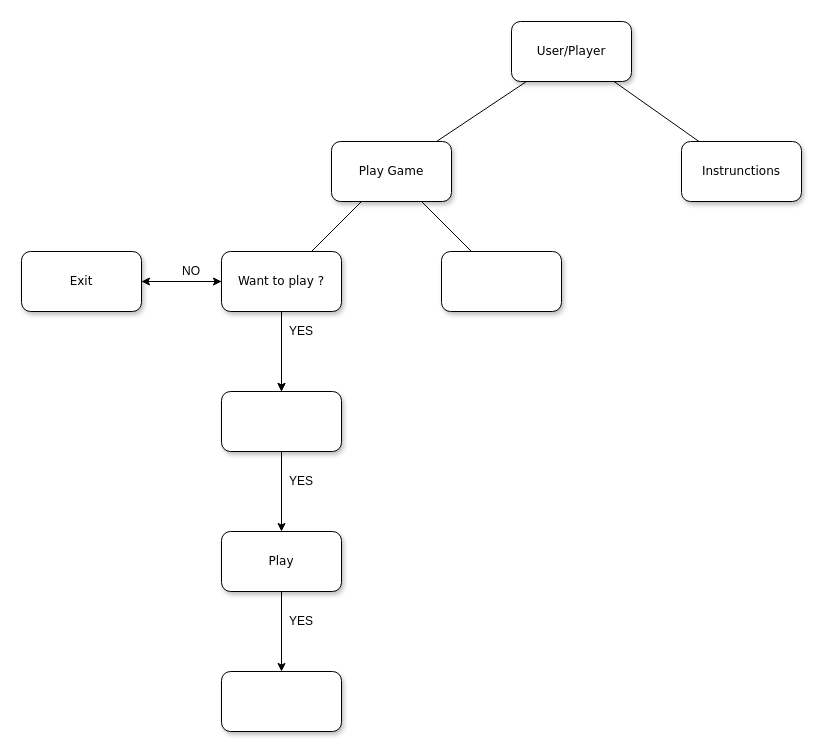
Some shapes in this 825 by 756 pixel diagram are drawn without their labels. The shapes that lost their labels are listed below. From the top down, each one's centre as x and y in pixels, then its label:
At (502,282): "See Top Players".
At (282,422): "Choose Topic".
At (282,702): "Result & Solution".
